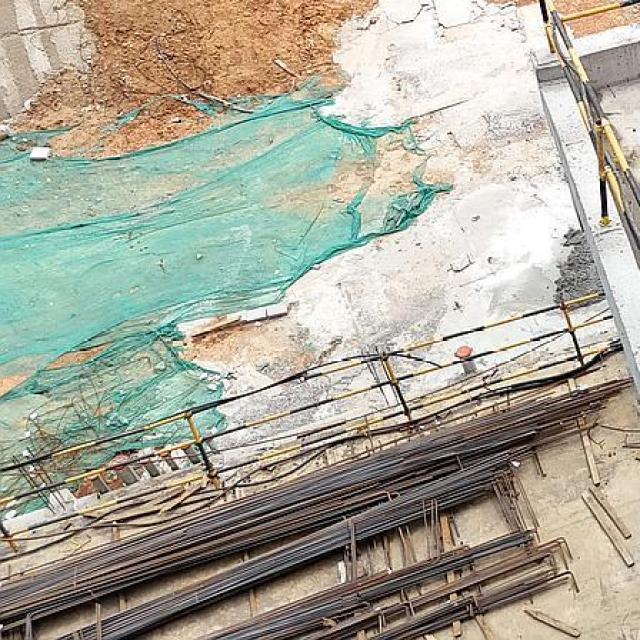edge_guardrail: (0, 291, 623, 555), (535, 0, 640, 254)
